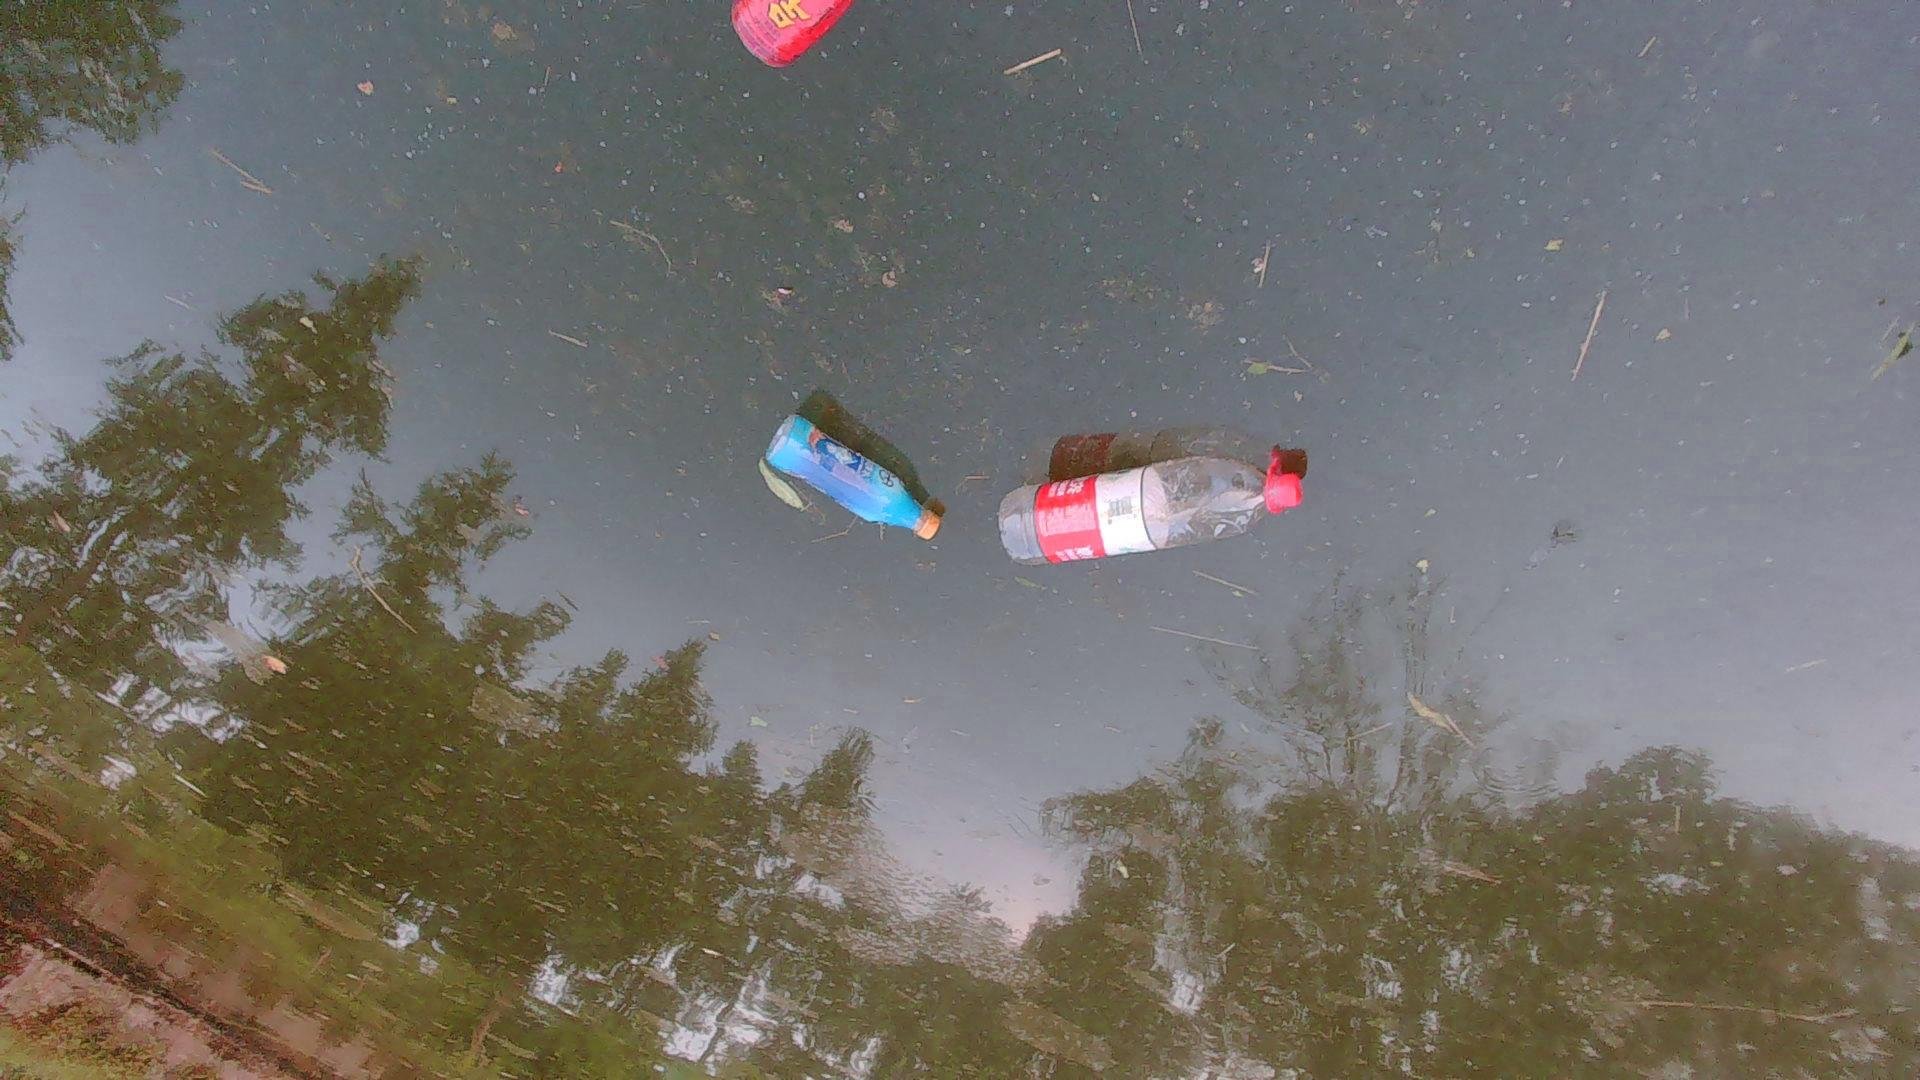Plastic: (989, 450, 1309, 579), (756, 419, 947, 547)
